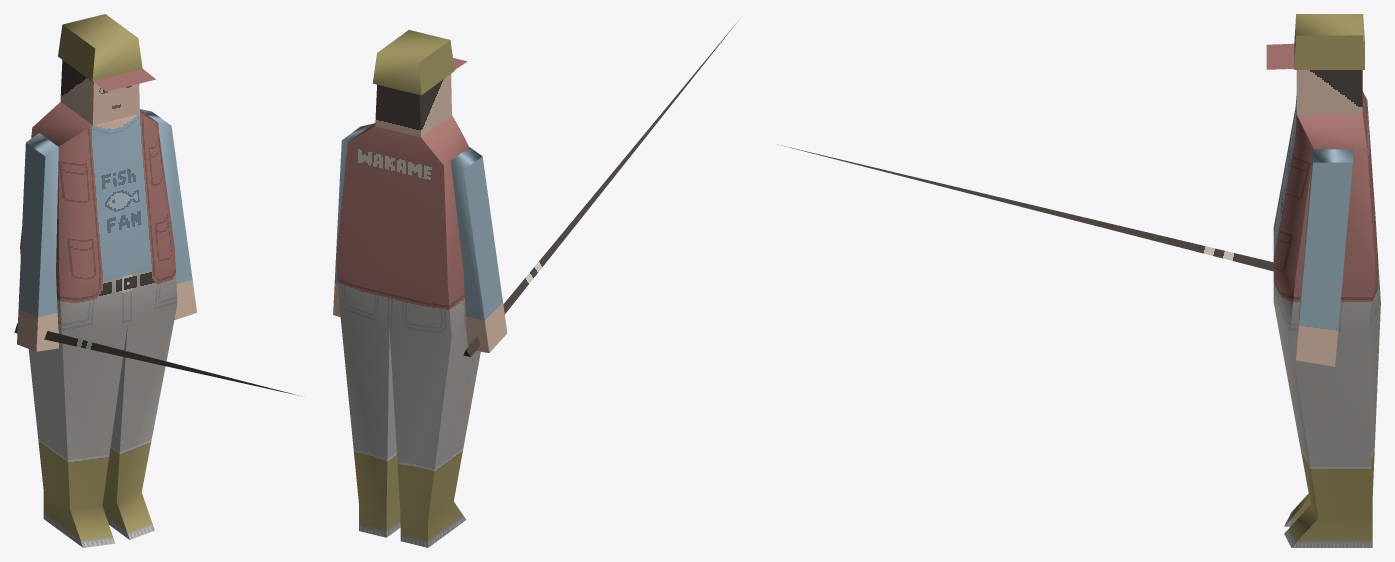
Rendered from 022d_Fisherman.glb.
3 renders of one model, left to right at view 1: azimuth 30°, elevation 25°; view 2: azimuth 150°, elevation 25°; view 3: azimuth 270°, elevation 25°, orthographic. The views are drawn at different scales.
Parts seen in each view (by area): view 1: part_0; view 2: part_0; view 3: part_0.
Part boxes in pixels (bbox=[...]): part_0: bbox=[14, 14, 301, 547]; part_0: bbox=[333, 19, 739, 547]; part_0: bbox=[777, 14, 1380, 547].
Bounding box in the file's own units: 0.6013 × 1.76 × 1.92.
Materials: 1 (1 with a texture image).
